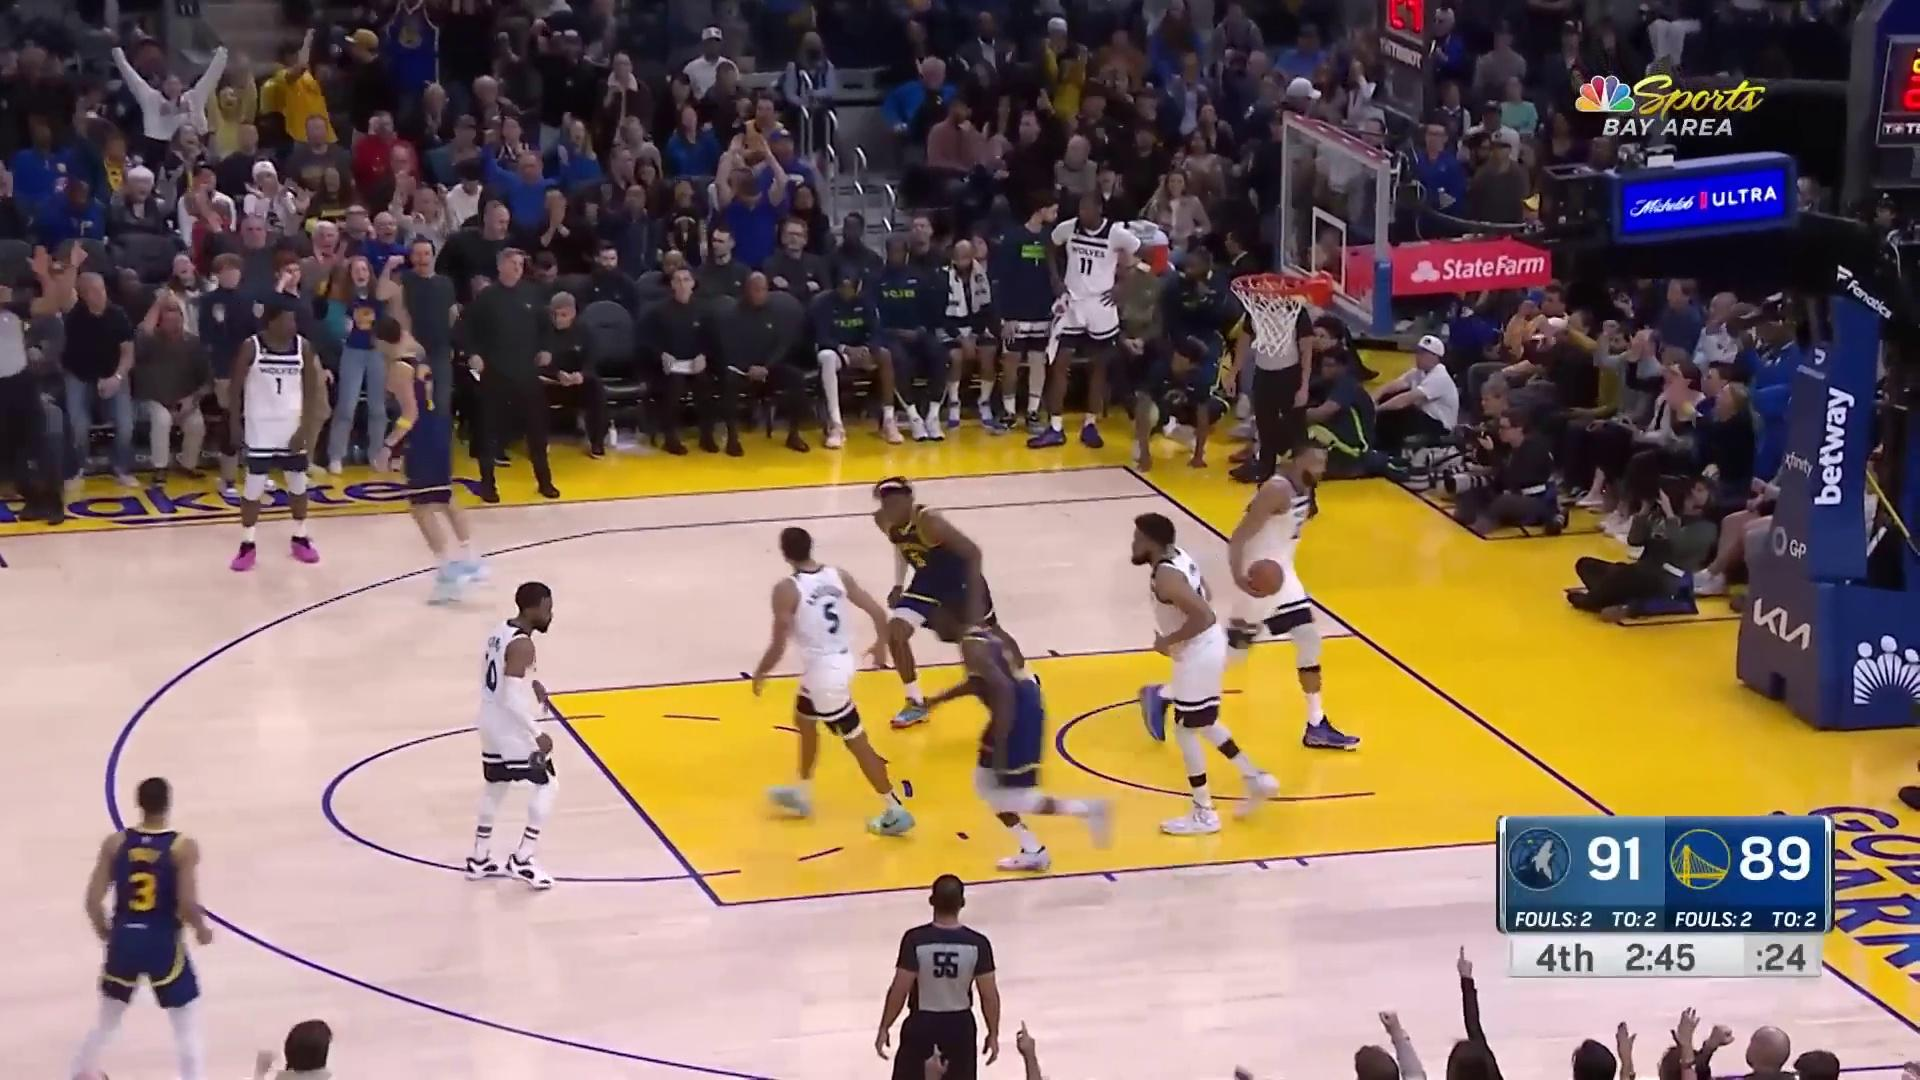Ball: (1243, 559, 1291, 598)
Player: (1131, 429, 1363, 763), (746, 523, 933, 834), (909, 591, 1114, 871), (1126, 518, 1291, 839), (66, 773, 221, 1080), (866, 473, 1024, 733), (368, 323, 493, 614), (461, 586, 566, 904), (228, 308, 326, 571)
Rim: (1234, 108, 1399, 366)
